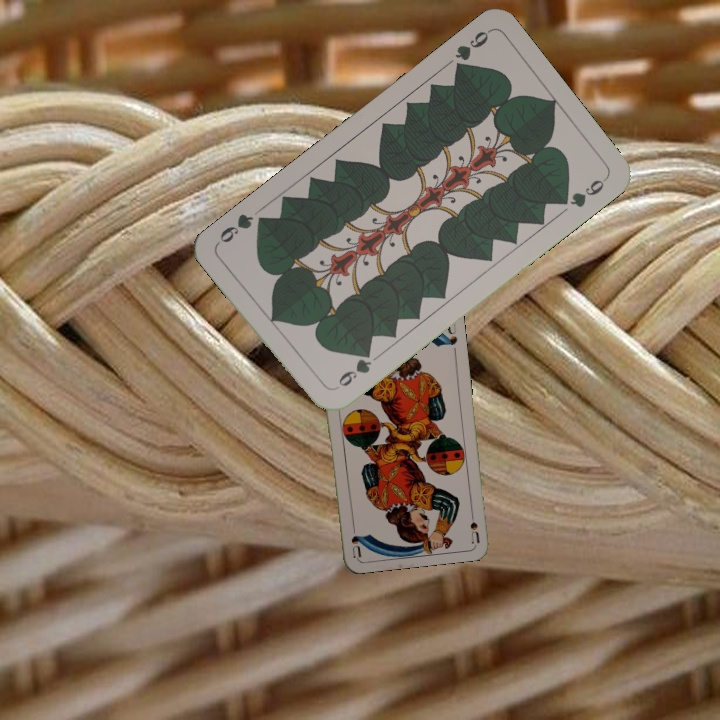G9: (450, 26, 493, 76), (329, 346, 374, 393)
SU: (466, 504, 482, 545)
